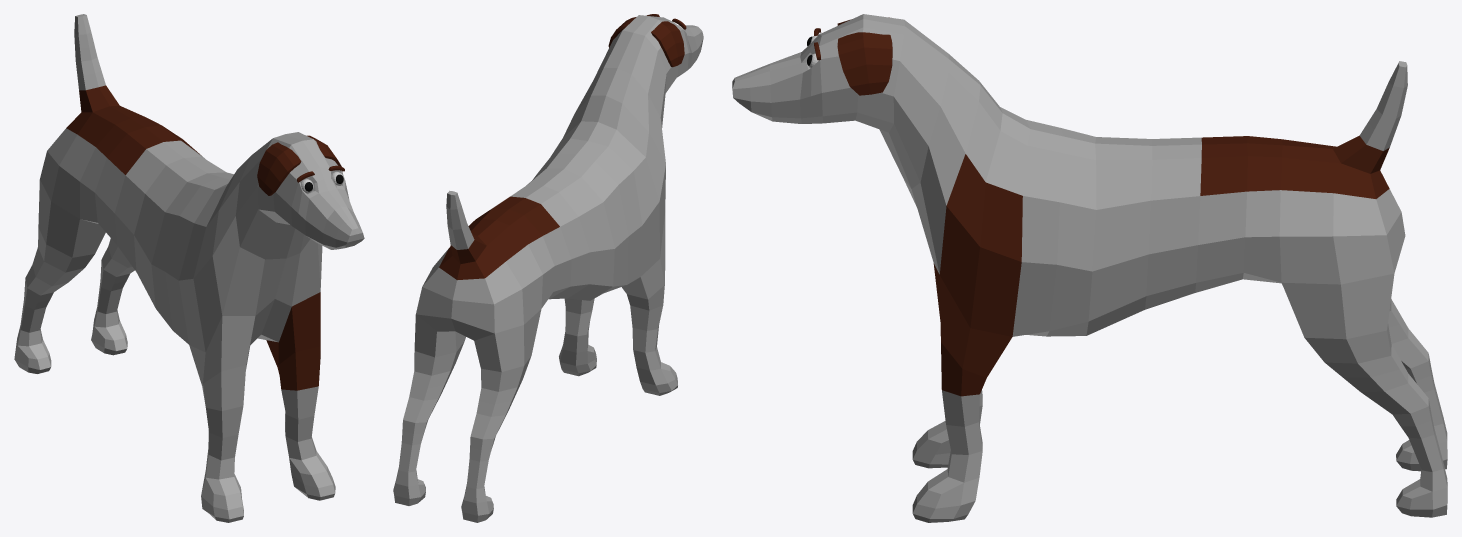
File: Dog (Jack russel)  Release.obj
The picture shows the model from 3 angles, left to right: view 1: azimuth 30°, elevation 25°; view 2: azimuth 150°, elevation 25°; view 3: azimuth 270°, elevation 25°; orthographic projection. The views are drawn at different scales.
Parts seen in each view (by area): view 1: Dog_Cylinder; view 2: Dog_Cylinder; view 3: Dog_Cylinder.
Part boxes in pixels (<box>): Dog_Cylinder: <box>14,14,364,522</box>; Dog_Cylinder: <box>393,14,703,522</box>; Dog_Cylinder: <box>732,14,1447,522</box>.
Bounding box in the file's own units: 1.79 × 5.23 × 7.22.
